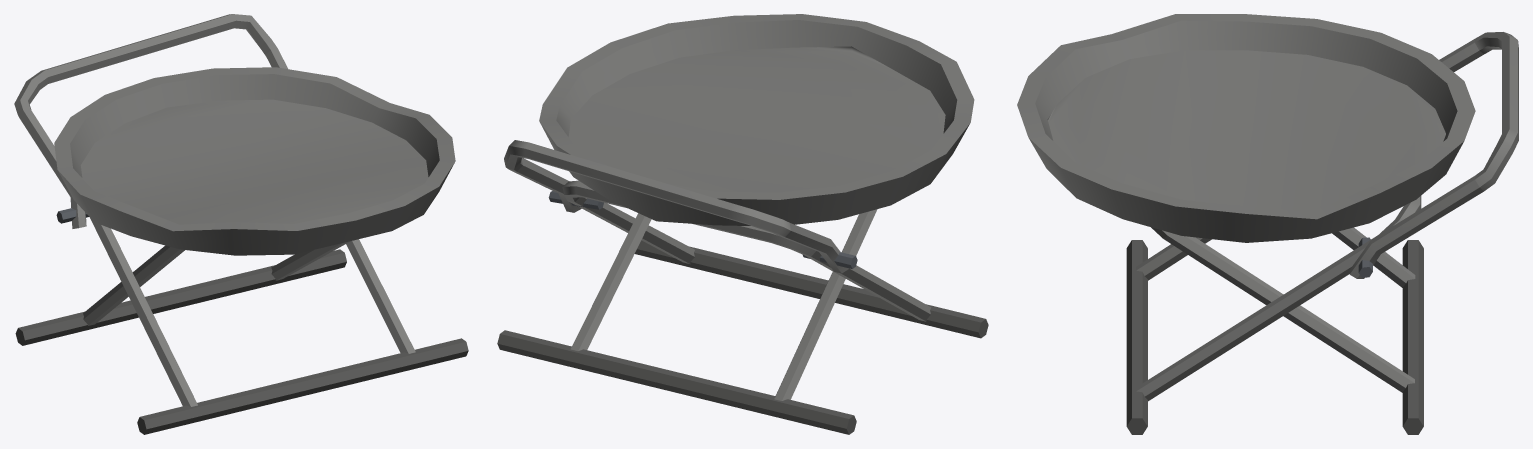
Rendered from SM_Prop_Cart_Tray_01.fbx.
3 views of the same model, side by side, from view 1: azimuth 30°, elevation 25°; view 2: azimuth 150°, elevation 25°; view 3: azimuth 270°, elevation 25° (orthographic). The views are drawn at different scales.
Visible parts, largest first — view 1: SM_Prop_Cart_Tray_01; view 2: SM_Prop_Cart_Tray_01; view 3: SM_Prop_Cart_Tray_01.
Boxes of the visible parts, x1,y1,x2,y2 form: SM_Prop_Cart_Tray_01: [14, 14, 468, 434]; SM_Prop_Cart_Tray_01: [497, 14, 988, 434]; SM_Prop_Cart_Tray_01: [1017, 14, 1518, 434].
Size of the model in its own units: 138 by 89.65 by 152.
